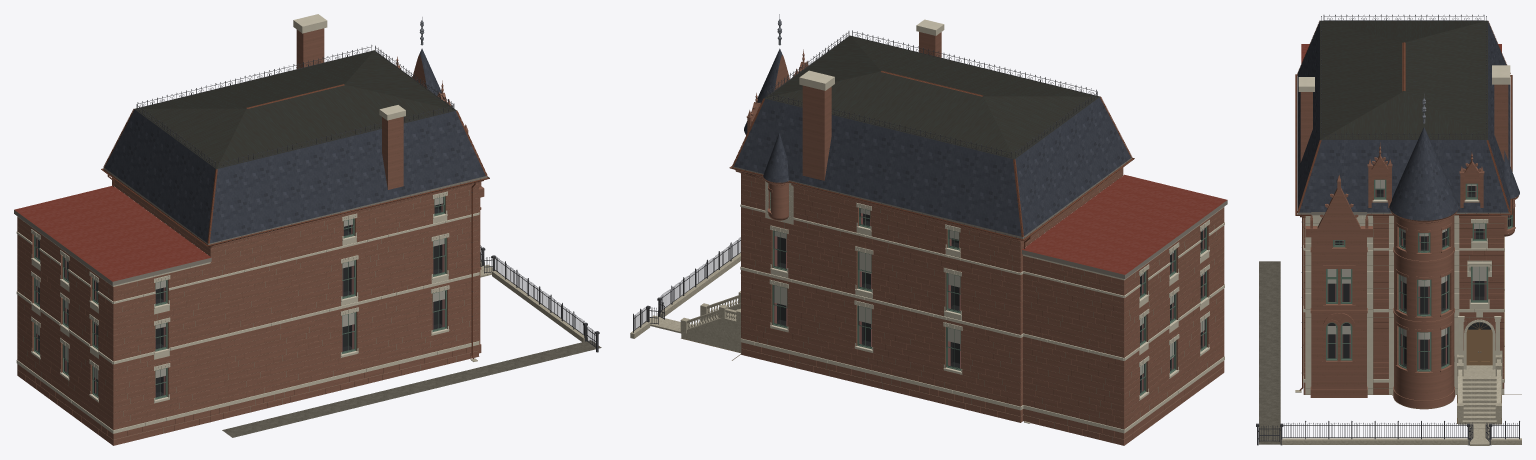
File: moulton_lowden_house_1912_prairie__as_mapped_1904.glb
3 views of the same model, side by side, from view 1: azimuth 30°, elevation 25°; view 2: azimuth 150°, elevation 25°; view 3: azimuth 270°, elevation 25° (orthographic). The views are drawn at different scales.
Parts seen in each view (by area): view 1: moulton_lowden_house_1912_prairie__as_mapped_1904; view 2: moulton_lowden_house_1912_prairie__as_mapped_1904; view 3: moulton_lowden_house_1912_prairie__as_mapped_1904.
Boxes of the visible parts, x1,y1,x2,y2 form: moulton_lowden_house_1912_prairie__as_mapped_1904: [14, 14, 601, 445]; moulton_lowden_house_1912_prairie__as_mapped_1904: [630, 14, 1227, 445]; moulton_lowden_house_1912_prairie__as_mapped_1904: [1256, 14, 1521, 445].
Bounding box in the file's own units: 35.69 × 21.83 × 17.23.
Materials: 24 (13 with a texture image).
